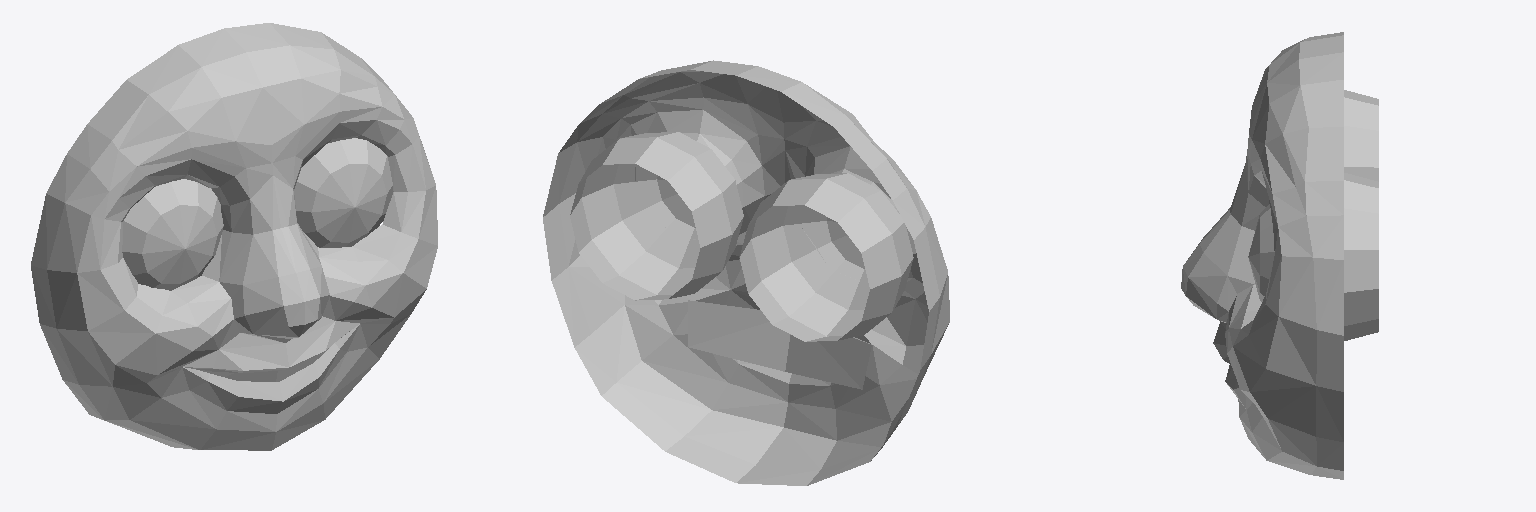
Rendered from ThomasFace.obj.
The picture shows the model from 3 angles: view 1: azimuth 30°, elevation 25°; view 2: azimuth 150°, elevation 25°; view 3: azimuth 270°, elevation 25°; orthographic projection.
Visible parts, largest first — view 1: thomas; view 2: thomas; view 3: thomas.
Boxes of the visible parts, <box> form: thomas: <box>31,23,437,450</box>; thomas: <box>543,60,949,485</box>; thomas: <box>1181,32,1378,479</box>.
Size of the model in its own units: 1.21 by 1.22 by 0.5351.